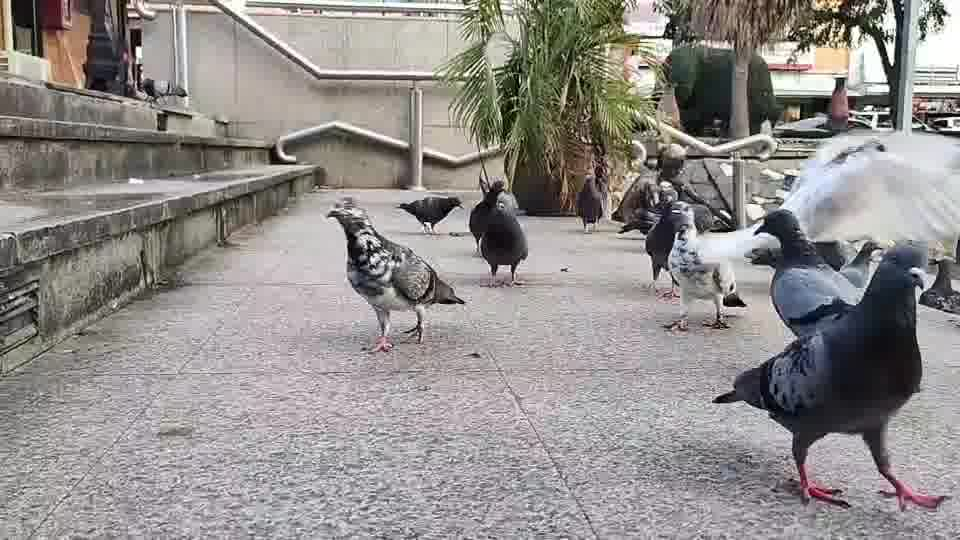Pigeon: (711, 241, 945, 512), (776, 130, 959, 267), (324, 195, 466, 353), (750, 207, 882, 338), (662, 224, 747, 331), (468, 173, 528, 287), (643, 200, 700, 296), (395, 194, 464, 234), (918, 255, 959, 315), (574, 173, 604, 233)
